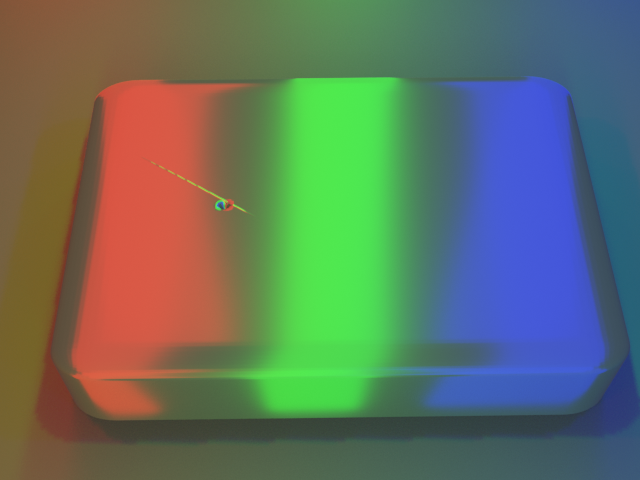dent: (195, 186, 235, 224)
scratch: (163, 68, 387, 305)
